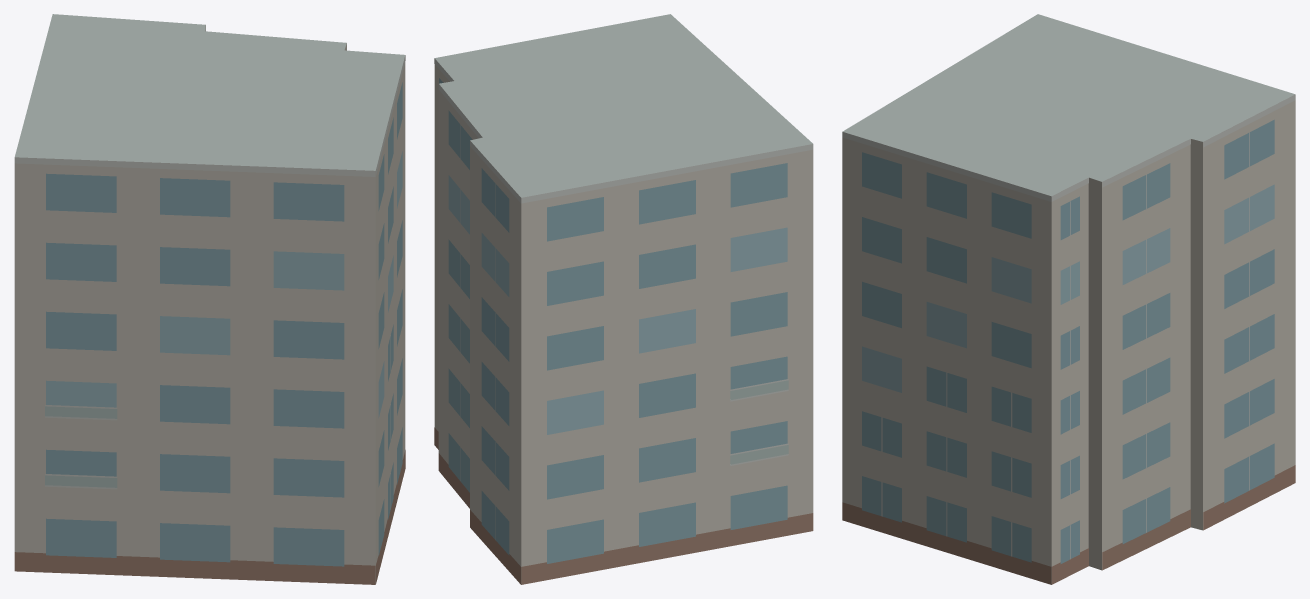
Rendered from survey-upis-32964171.glb.
3 renders of one model, left to right at view 1: azimuth 30°, elevation 25°; view 2: azimuth 150°, elevation 25°; view 3: azimuth 270°, elevation 25°, orthographic. The views are drawn at different scales.
Visible parts, largest first — view 1: survey-upis-32964171.tmp; view 2: survey-upis-32964171.tmp; view 3: survey-upis-32964171.tmp.
Part boxes in pixels (x1,y1,x2,y2): survey-upis-32964171.tmp: (14,14,405,584); survey-upis-32964171.tmp: (434,14,813,584); survey-upis-32964171.tmp: (842,14,1295,584).
Size of the model in its own units: 16.61 by 16.5 by 17.45.
